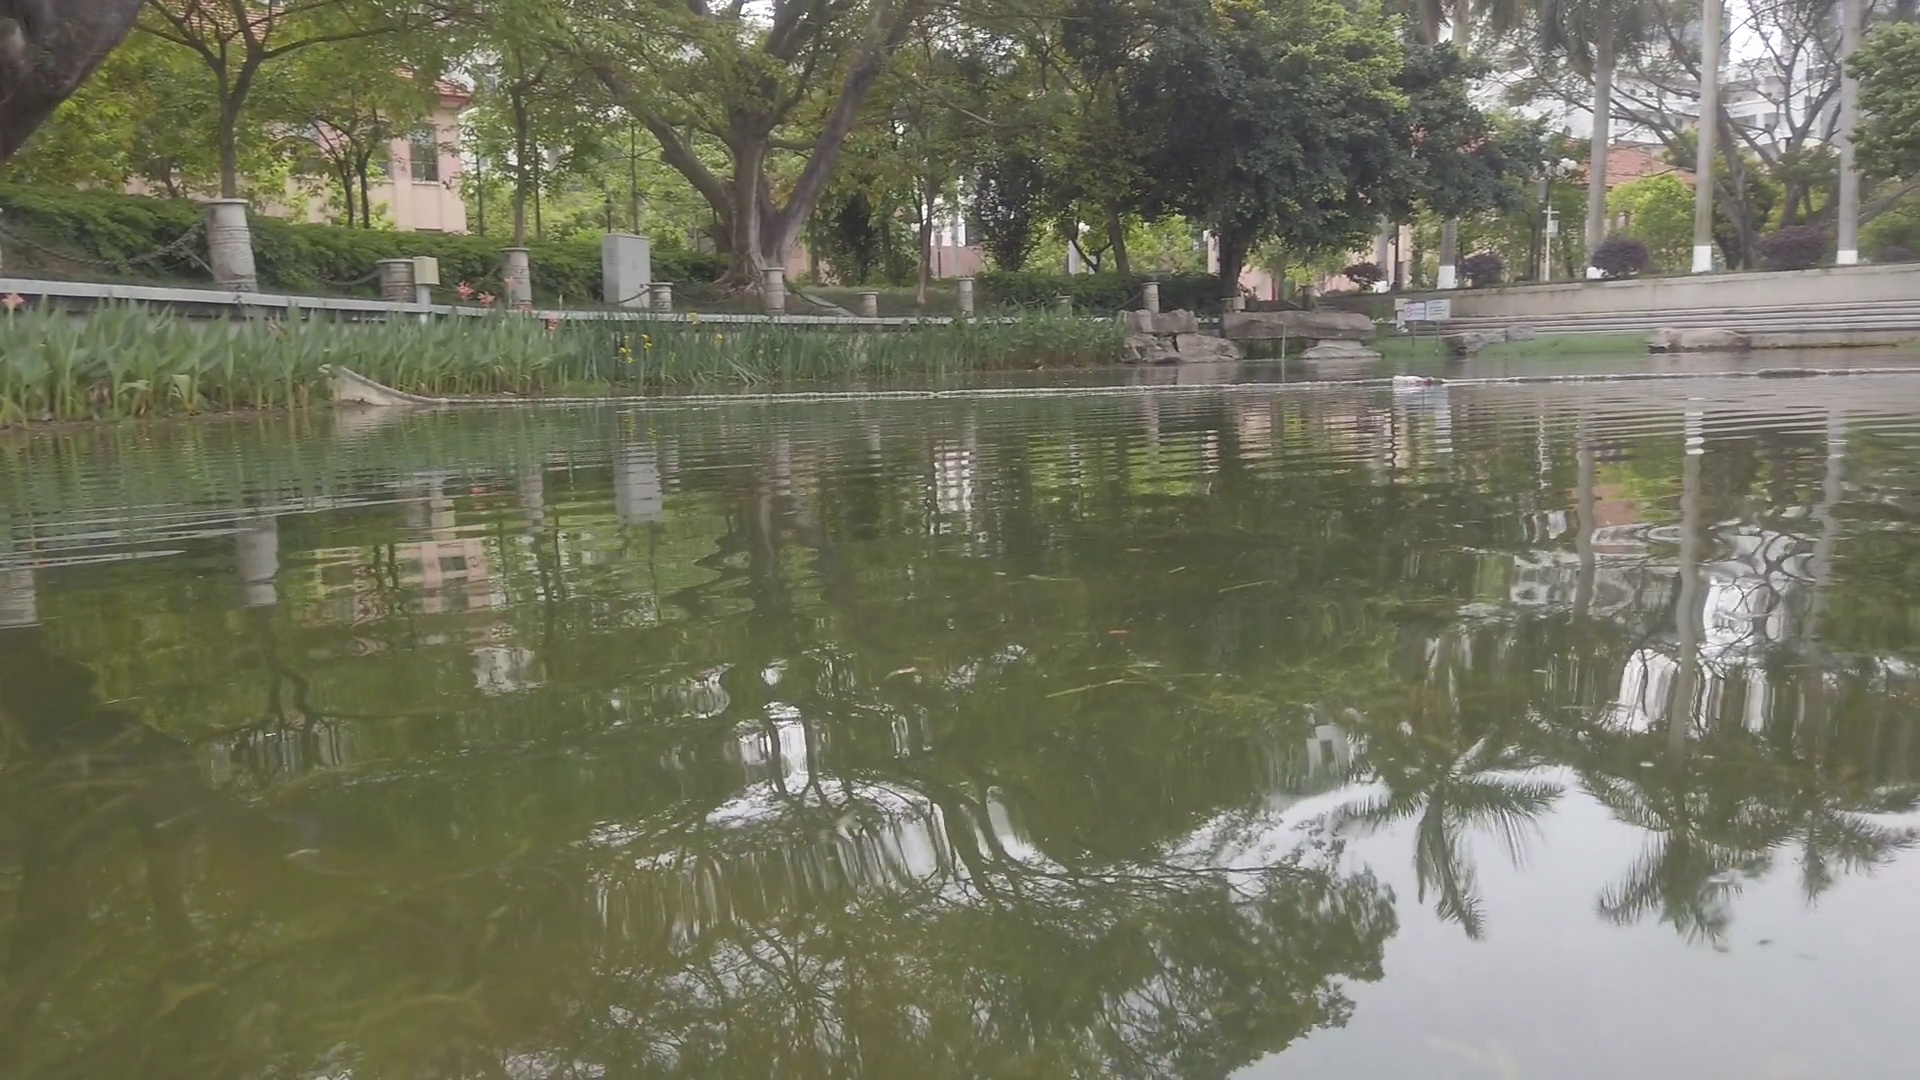bottle: (1393, 375, 1431, 385)
